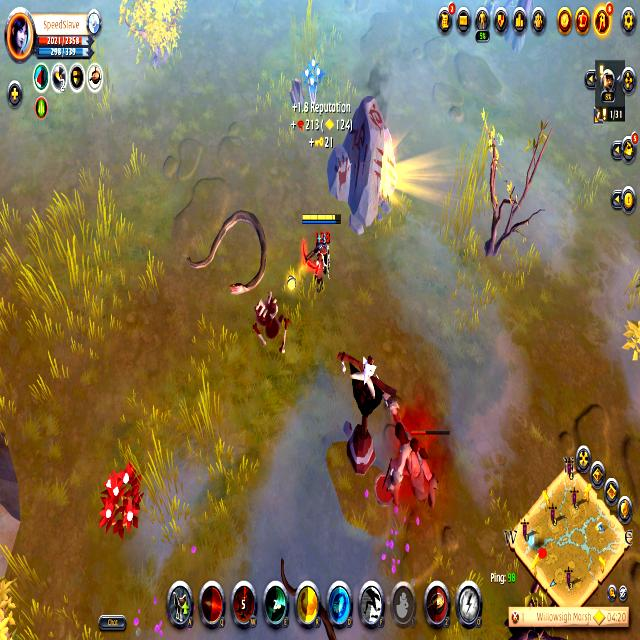hide: (300, 47, 326, 116)
ore: (388, 407, 451, 518), (92, 461, 150, 538)
red: (300, 210, 343, 292)
